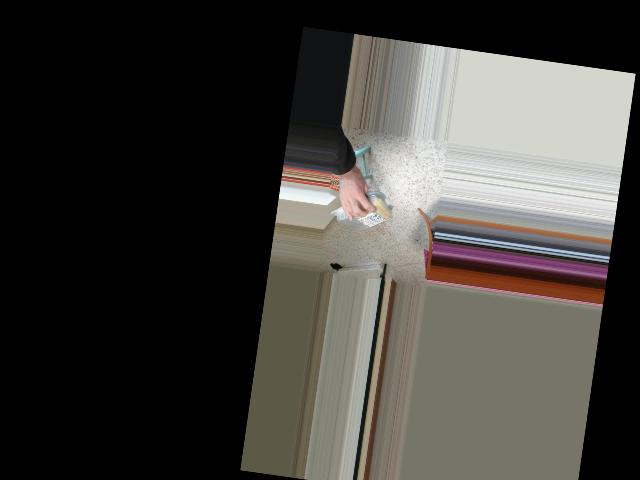cheese: (333, 194, 399, 231)
